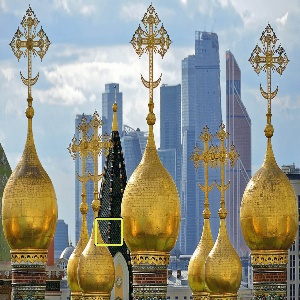square: (92, 217, 124, 247)
